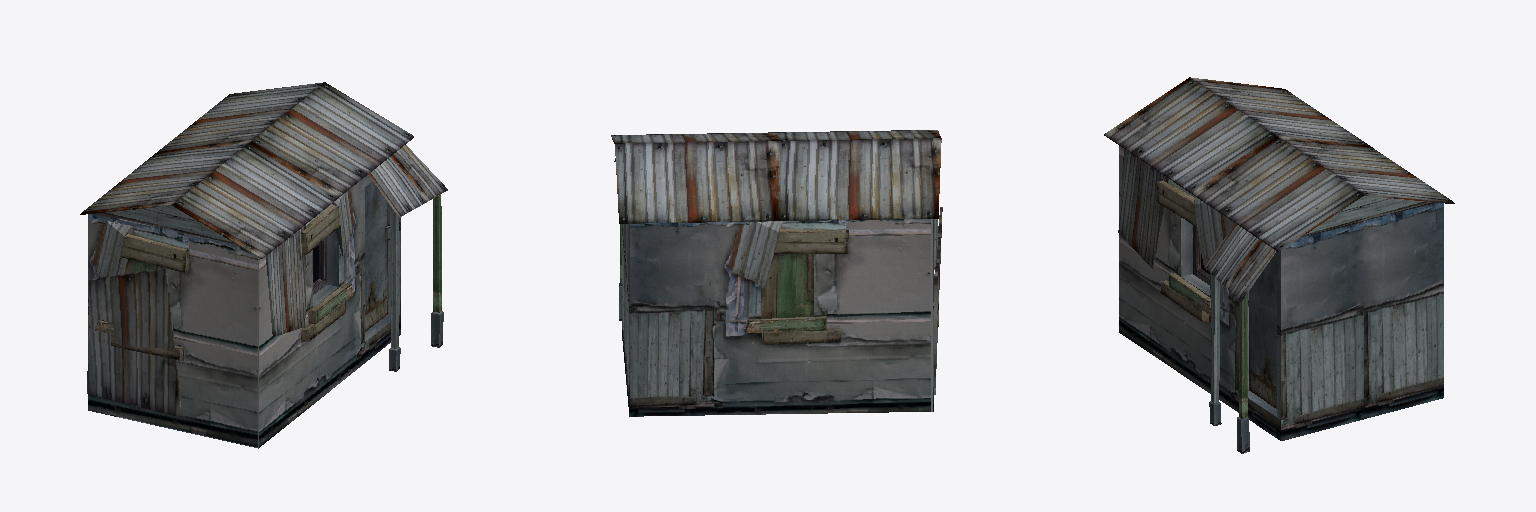
3 views of the same model, side by side, from view 1: azimuth 30°, elevation 25°; view 2: azimuth 150°, elevation 25°; view 3: azimuth 270°, elevation 25° (orthographic).
Bounding box in the file's own units: 135 × 86.32 × 118.
4 materials, 4 textured.